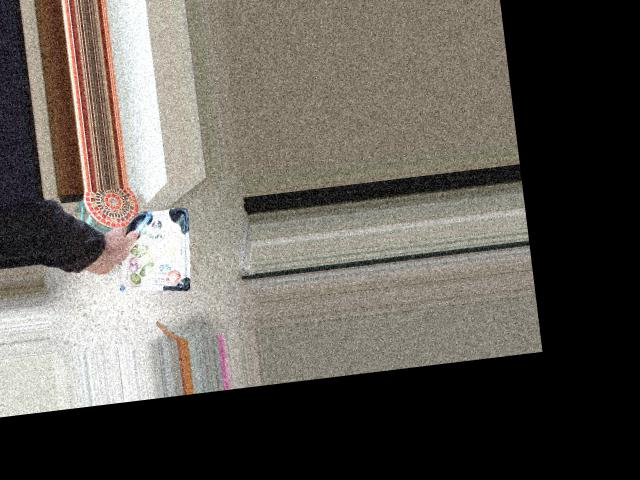cheese: (86, 209, 180, 301)
